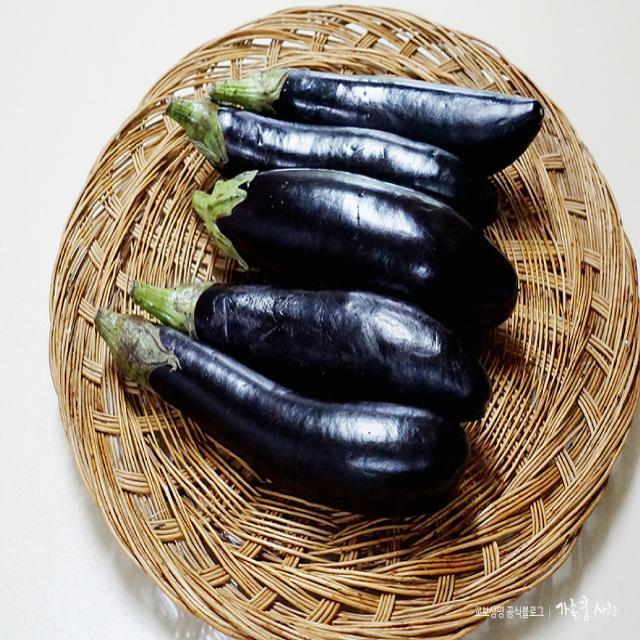eggplant: (115, 61, 560, 540)
